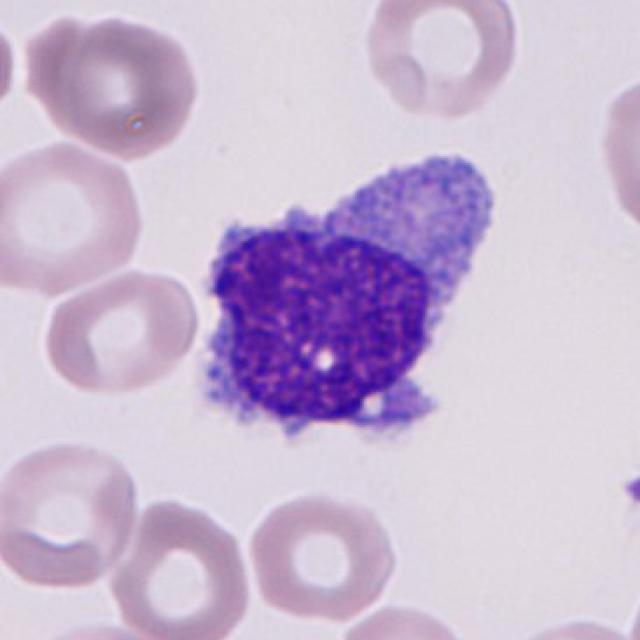Monocyte: (182, 142, 505, 465)
Platelets: (612, 466, 640, 518)
RBC: (20, 7, 206, 161), (0, 136, 149, 298), (0, 433, 143, 593), (103, 492, 257, 640), (37, 264, 203, 401), (243, 486, 404, 624), (356, 0, 524, 123), (593, 66, 640, 241), (330, 598, 481, 640), (493, 610, 638, 640), (19, 619, 177, 640), (0, 11, 23, 123)
